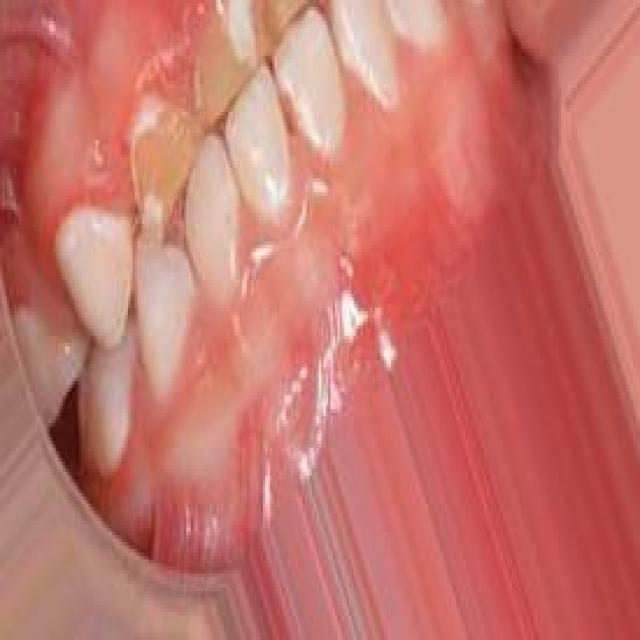caries: (129, 96, 195, 247), (195, 5, 265, 128)
